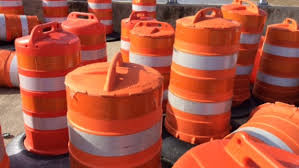barrel: (63, 59, 161, 168), (166, 13, 234, 141), (14, 32, 81, 150), (212, 5, 265, 103), (123, 20, 173, 93), (253, 25, 299, 99), (59, 16, 108, 63), (1, 14, 41, 40), (87, 1, 111, 34), (42, 1, 66, 23), (132, 1, 156, 20), (1, 1, 23, 18)
